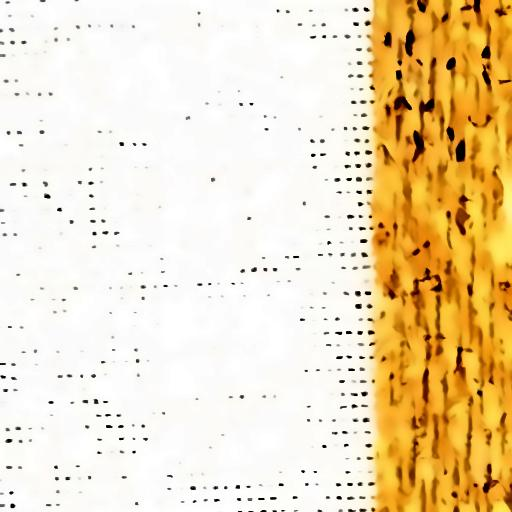egg: (436, 49, 468, 84), (444, 139, 479, 165), (404, 123, 428, 158), (377, 26, 399, 62), (403, 27, 424, 62), (476, 67, 498, 97), (390, 67, 411, 94), (441, 121, 462, 141), (479, 42, 495, 64)
